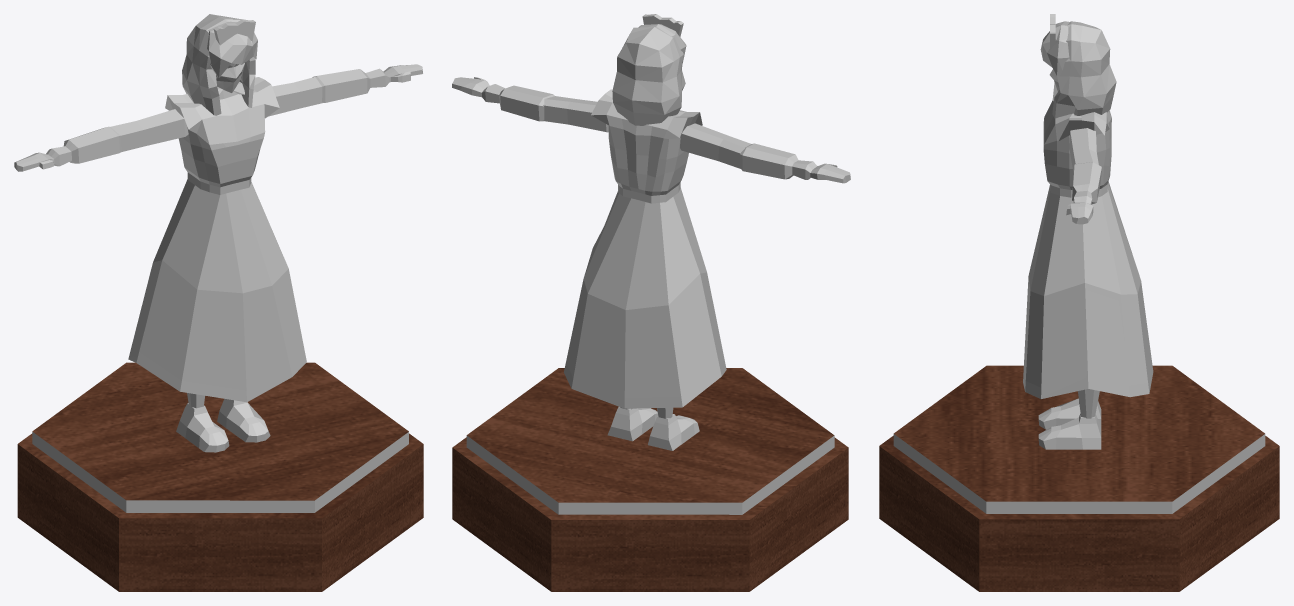
The model's file is Doll.fbx.
3 renders of one model, left to right at view 1: azimuth 30°, elevation 25°; view 2: azimuth 150°, elevation 25°; view 3: azimuth 270°, elevation 25°, orthographic. The views are drawn at different scales.
Visible parts, largest first — view 1: DollVannesa; view 2: DollVannesa; view 3: DollVannesa.
Boxes of the visible parts, <box> form: DollVannesa: <box>14,14,423,591</box>; DollVannesa: <box>452,14,850,591</box>; DollVannesa: <box>879,14,1279,591</box>.
Size of the model in its own units: 0.9844 by 1.17 by 0.8554.
